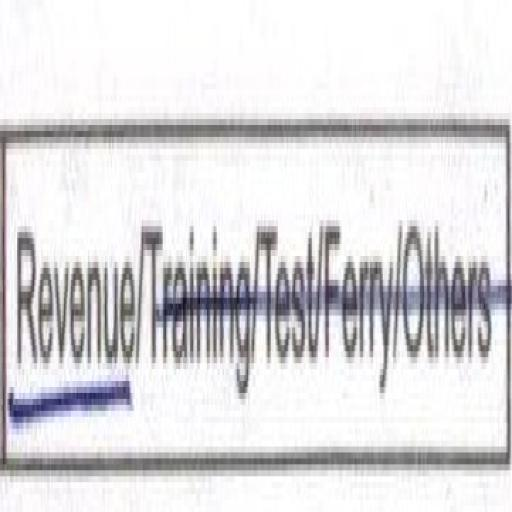check: (0, 48, 132, 500)
